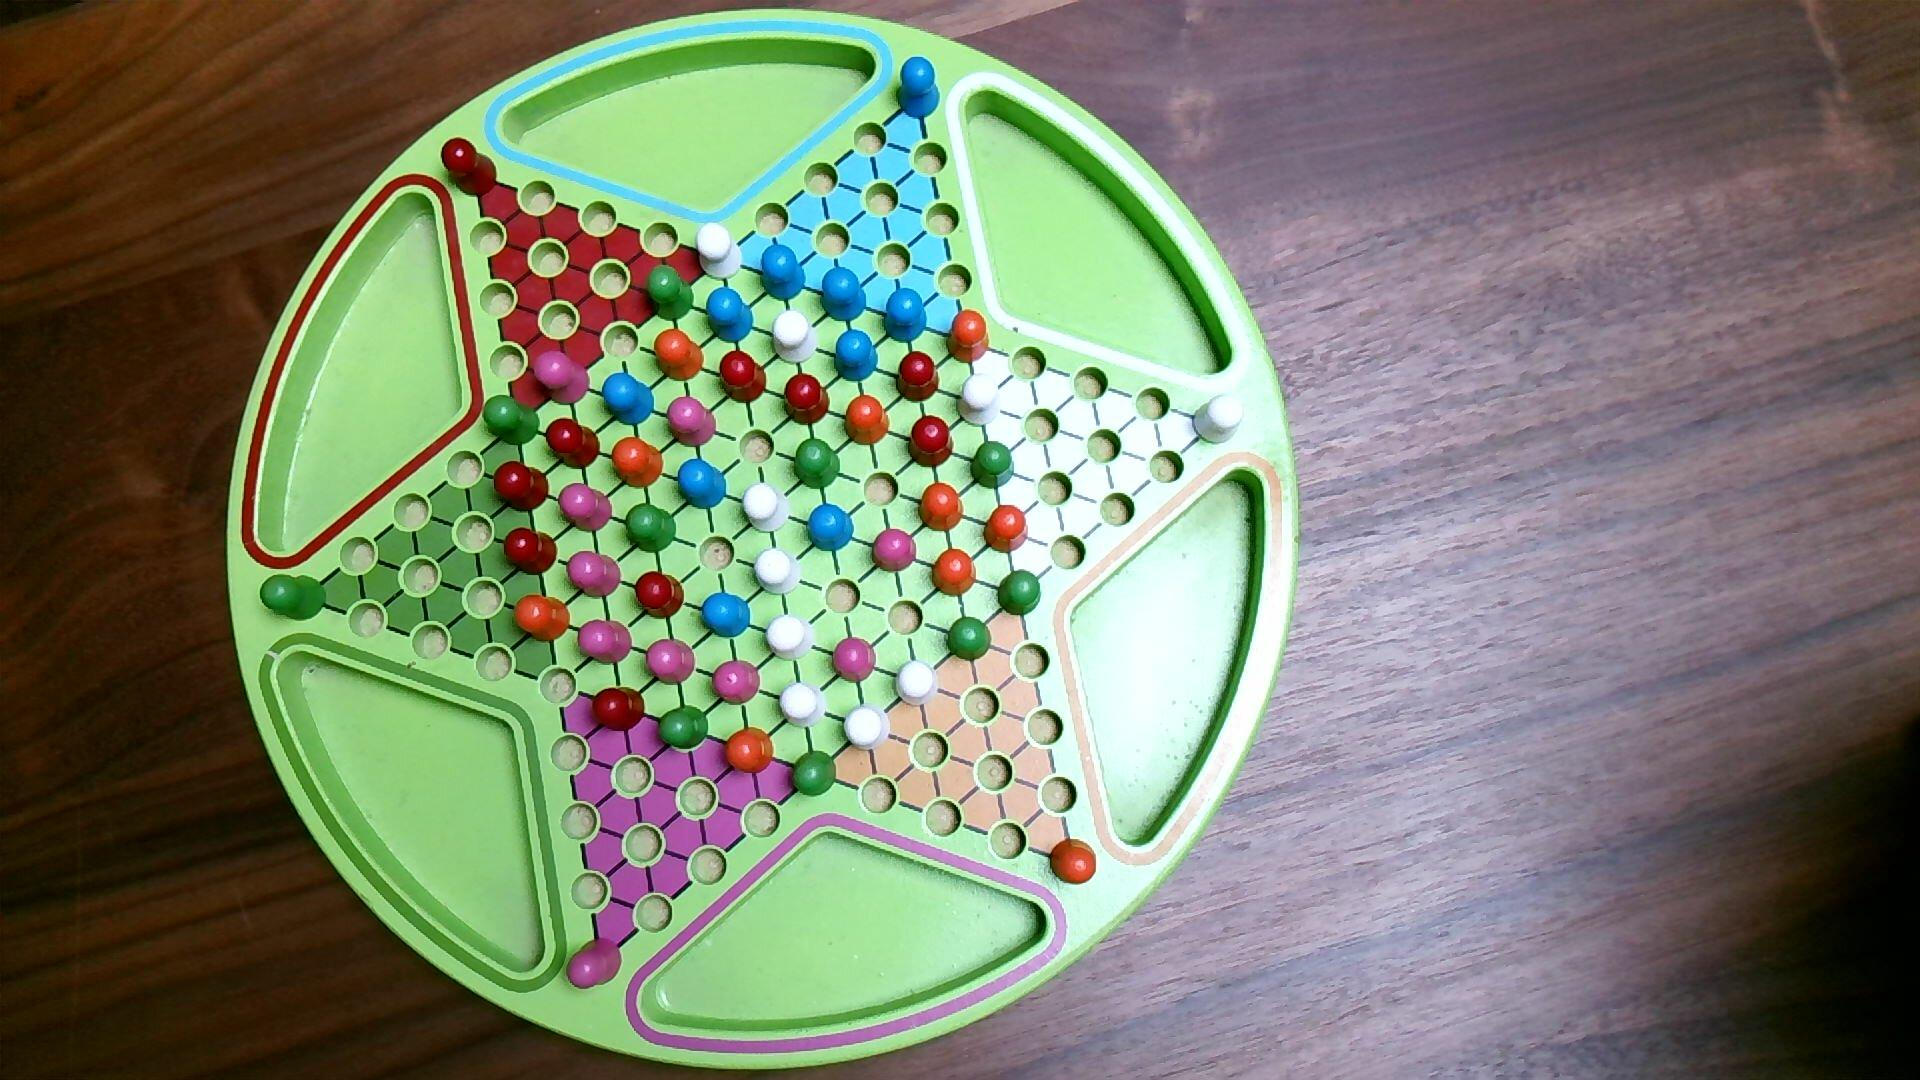B: (600, 372, 657, 429), (895, 55, 942, 123), (704, 286, 756, 345), (818, 265, 869, 324), (675, 458, 729, 512), (758, 243, 807, 302), (880, 287, 928, 345), (804, 502, 856, 554), (833, 328, 880, 384), (700, 592, 753, 640)
G: (258, 572, 328, 624), (481, 392, 542, 448), (644, 262, 698, 324), (624, 502, 679, 556), (791, 435, 843, 492), (655, 704, 711, 752), (789, 749, 839, 800), (945, 616, 996, 665), (969, 440, 1015, 492), (997, 568, 1043, 618)
O: (512, 592, 574, 645), (651, 328, 707, 384), (611, 436, 665, 491), (944, 307, 992, 367), (843, 393, 891, 448), (916, 483, 967, 535), (723, 727, 775, 777), (982, 502, 1031, 555), (1048, 837, 1098, 887), (930, 547, 978, 599)
R: (440, 136, 498, 200), (491, 459, 551, 516), (545, 415, 603, 472), (502, 525, 560, 578), (905, 413, 956, 469), (589, 684, 647, 735), (633, 570, 687, 622), (717, 349, 767, 406), (782, 372, 832, 427), (894, 349, 943, 405)
R2: (530, 349, 593, 409), (564, 934, 625, 993), (564, 547, 625, 603), (556, 481, 615, 535), (576, 617, 634, 669), (665, 394, 717, 450), (708, 657, 762, 708), (644, 637, 698, 688), (829, 634, 880, 686), (869, 525, 919, 576)
W: (1191, 392, 1247, 447), (695, 222, 744, 284), (740, 483, 793, 535), (955, 372, 1004, 429), (771, 309, 819, 367), (764, 615, 818, 665), (843, 703, 893, 754), (891, 658, 942, 709), (777, 680, 828, 731), (753, 547, 803, 597)
